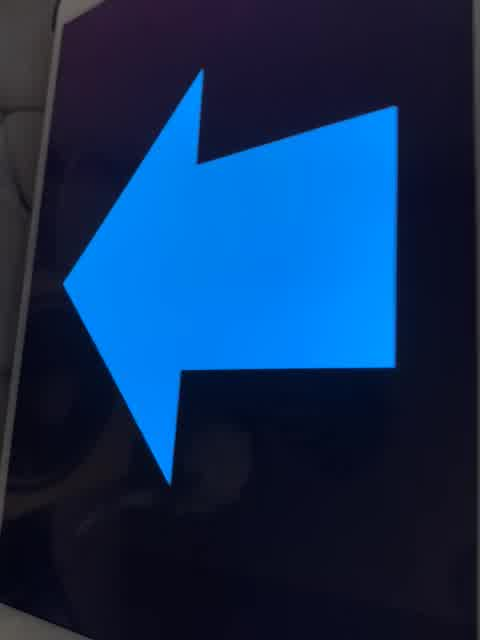left: (55, 62, 414, 493)
